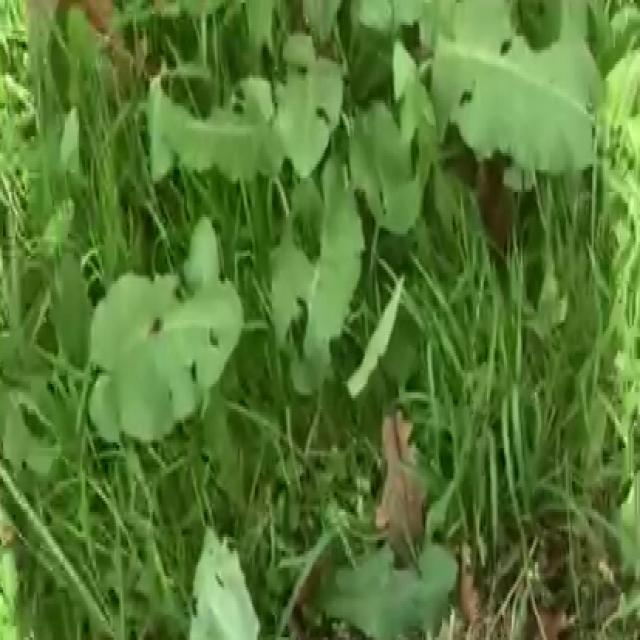organic waste: (168, 0, 640, 328), (111, 417, 464, 640), (40, 234, 249, 487)
